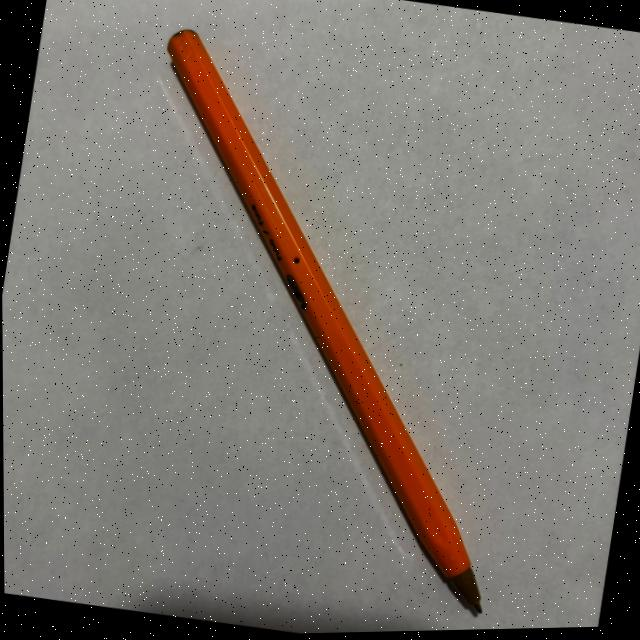pencil: (165, 32, 481, 619)
